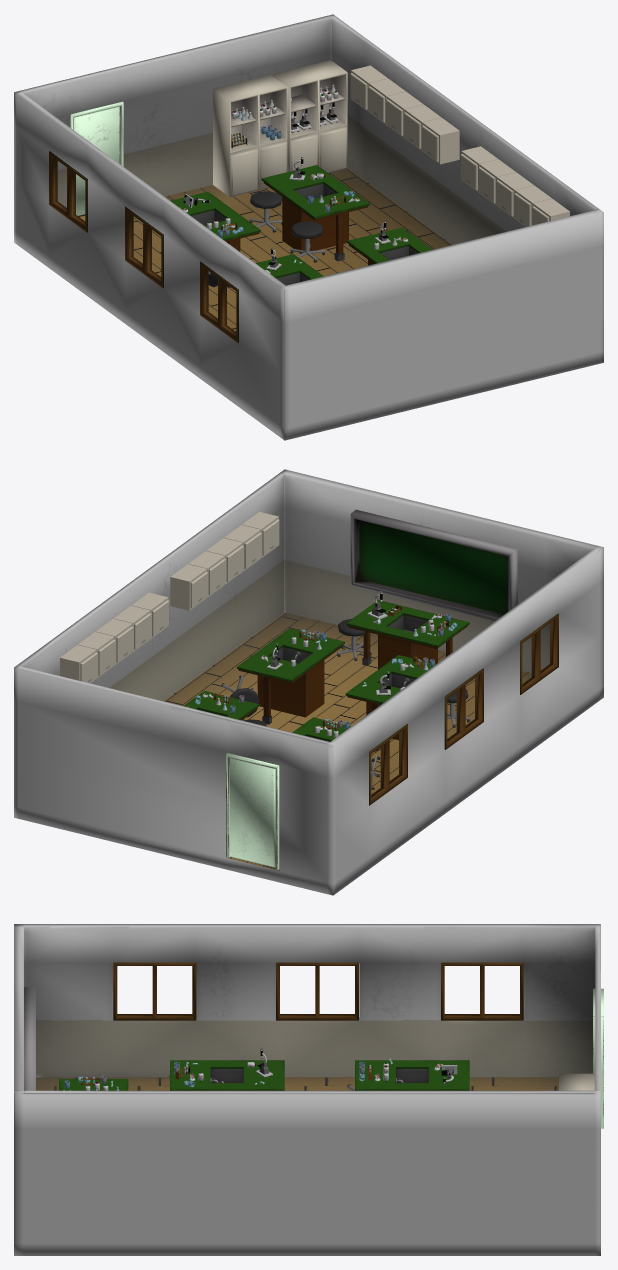
Rendered from scienceroom.fbx.
3 views of the same model, one above another, from view 1: azimuth 30°, elevation 25°; view 2: azimuth 150°, elevation 25°; view 3: azimuth 270°, elevation 25° (orthographic). The views are drawn at different scales.
Parts seen in each view (by area): view 1: classroom.005, shelf.007, shelf.008, shelf.009, Cube.239, shelf.005, Cube.244, Cube.253, Cube.251, Cube.240, Cube.242, Cube.247 (+3 smaller); view 2: classroom.005, Cube.257, Cube.251, shelf.005, Cube.244, shelf.009, Cube.255, Cube.249, Cube.242, Cube.240, Cube.247, Cube.243 (+2 smaller); view 3: classroom.005, Cube.249, Cube.253, Cube.247, Cube.240, Cube.242, Cube.257, Cube.243, shelf.007, Cube.255.
Boxes of the visible parts, left/top/right/bottom form: classroom.005: left=14, top=14, right=603, bottom=440; shelf.007: left=213, top=74, right=287, bottom=196; shelf.008: left=273, top=60, right=347, bottom=172; shelf.009: left=350, top=65, right=459, bottom=164; Cube.239: left=261, top=165, right=369, bottom=261; shelf.005: left=461, top=146, right=569, bottom=226; Cube.244: left=74, top=106, right=120, bottom=215; Cube.253: left=170, top=191, right=260, bottom=287; Cube.251: left=347, top=227, right=432, bottom=265; Cube.240: left=49, top=151, right=87, bottom=232; Cube.242: left=125, top=206, right=163, bottom=288; Cube.247: left=200, top=261, right=238, bottom=342; classroom.005: left=14, top=469, right=603, bottom=895; Cube.257: left=350, top=509, right=517, bottom=620; Cube.251: left=237, top=628, right=344, bottom=724; shelf.005: left=170, top=512, right=279, bottom=610; Cube.244: left=229, top=758, right=275, bottom=867; shelf.009: left=60, top=592, right=168, bottom=683; Cube.255: left=346, top=600, right=469, bottom=669; Cube.249: left=345, top=655, right=436, bottom=750; Cube.242: left=444, top=668, right=483, bottom=749; Cube.240: left=369, top=724, right=407, bottom=805; Cube.247: left=520, top=613, right=558, bottom=694; Cube.243: left=226, top=753, right=279, bottom=869; classroom.005: left=14, top=924, right=600, bottom=1255; Cube.249: left=170, top=1060, right=284, bottom=1090; Cube.253: left=355, top=1060, right=469, bottom=1090; Cube.247: left=113, top=962, right=196, bottom=1020; Cube.240: left=441, top=962, right=523, bottom=1020; Cube.242: left=276, top=962, right=358, bottom=1020; Cube.257: left=24, top=987, right=35, bottom=1090; Cube.243: left=593, top=988, right=603, bottom=1128; shelf.007: left=559, top=1073, right=594, bottom=1090; Cube.255: left=59, top=1079, right=128, bottom=1090.
Bounding box in the file's own units: 395 × 177 × 582.
Materials: 5 (5 with a texture image).
